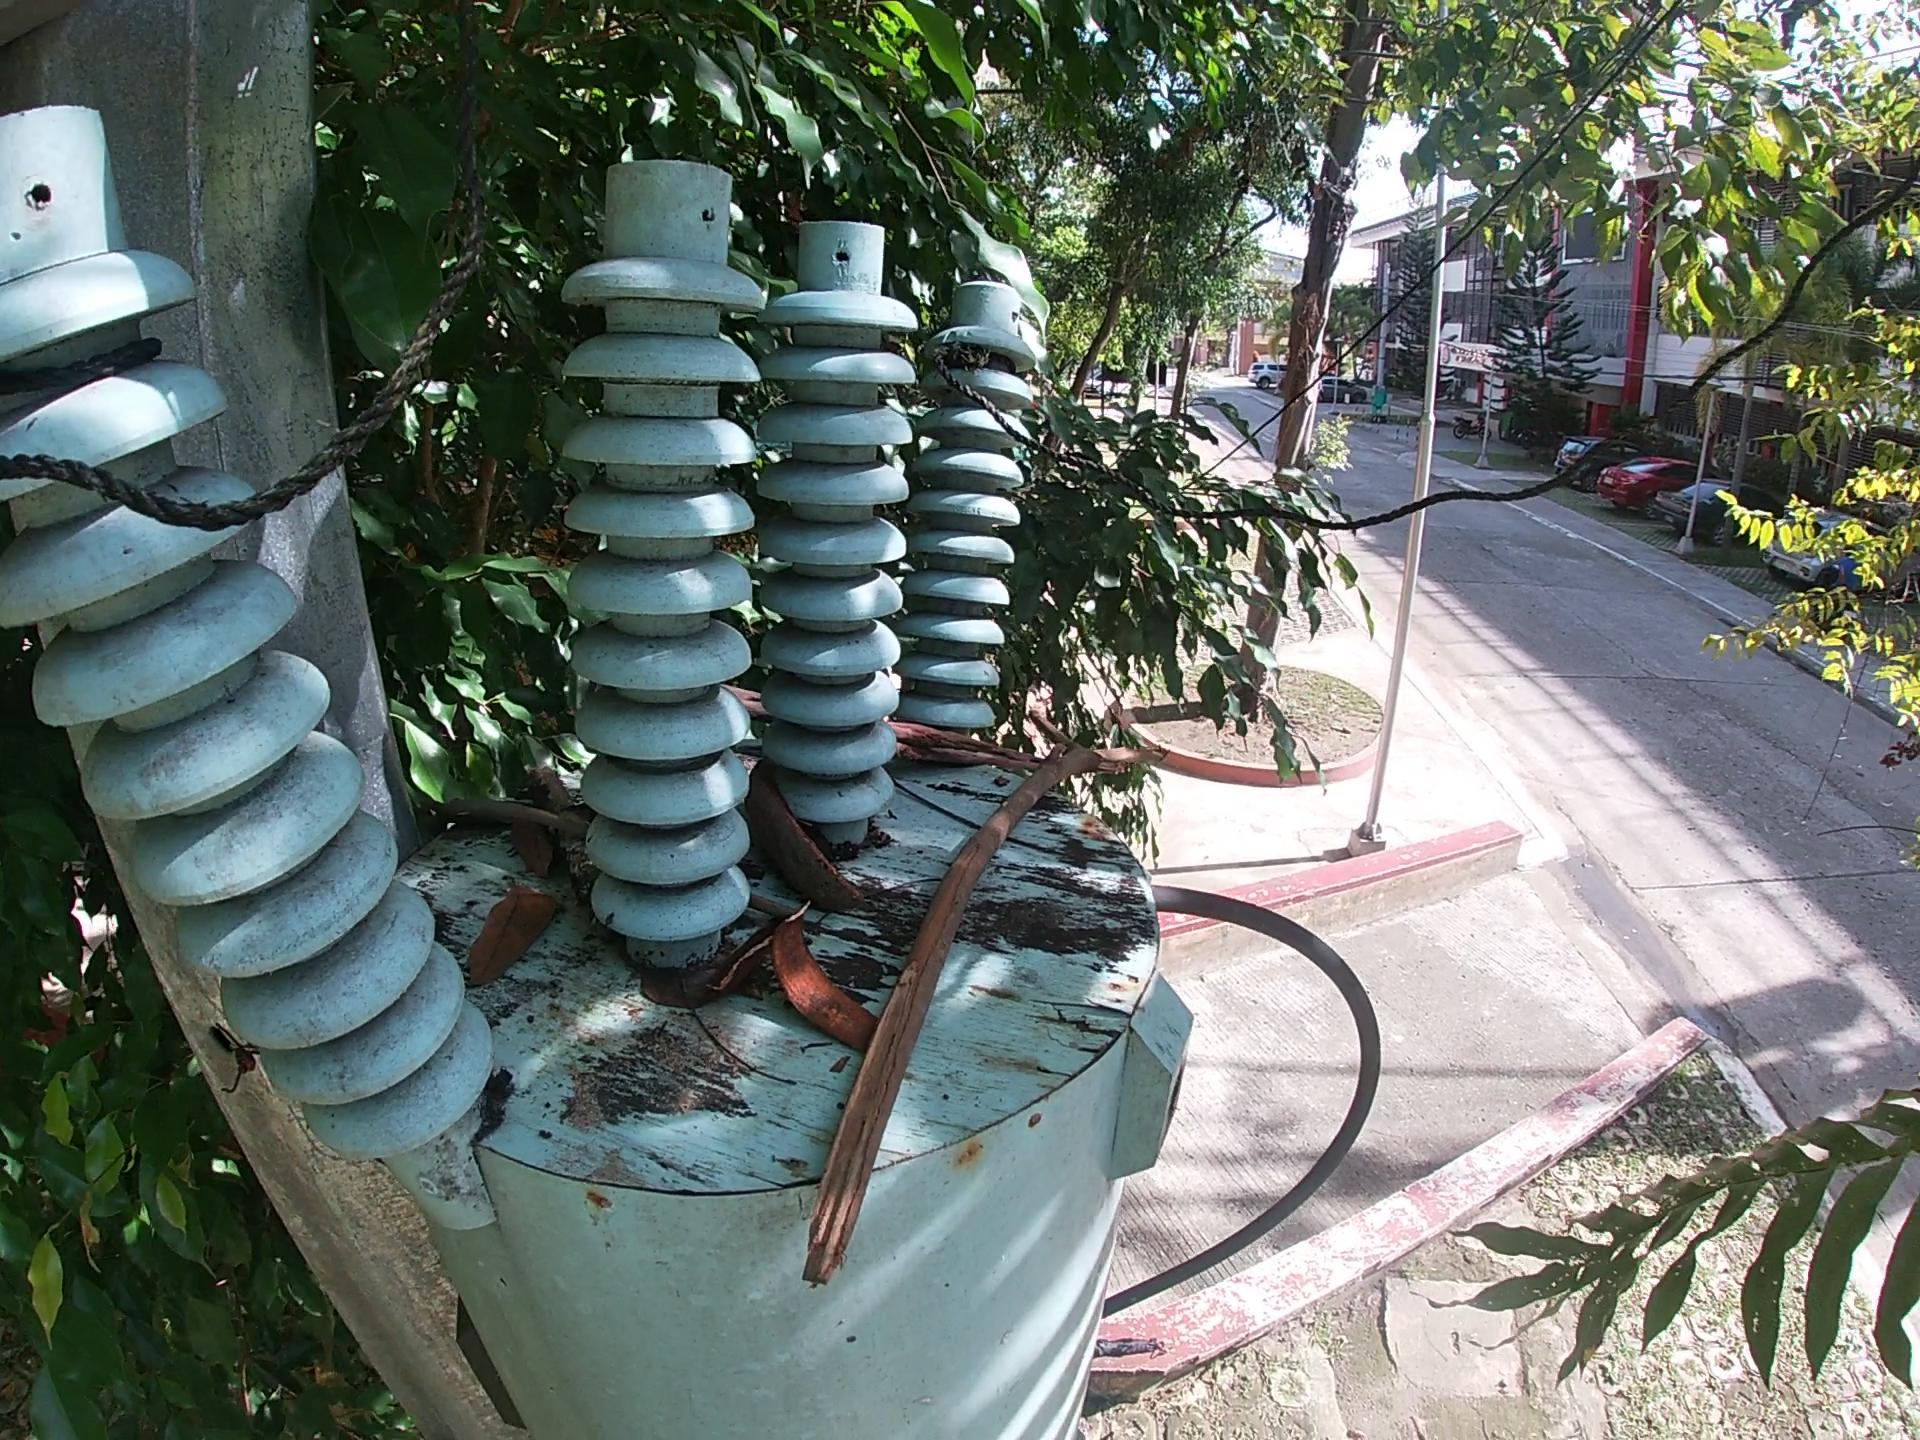leaf: (475, 886, 573, 976), (635, 967, 694, 1023), (537, 830, 576, 892)
mahogany fruit: (748, 750, 881, 923), (774, 915, 866, 1047)
tree branch: (762, 712, 1191, 1340), (705, 902, 827, 1001), (890, 720, 1046, 782), (698, 1010, 815, 1089), (531, 765, 596, 902), (405, 799, 590, 830), (1019, 839, 1147, 876), (893, 779, 977, 827), (720, 675, 771, 723), (748, 892, 813, 926)
